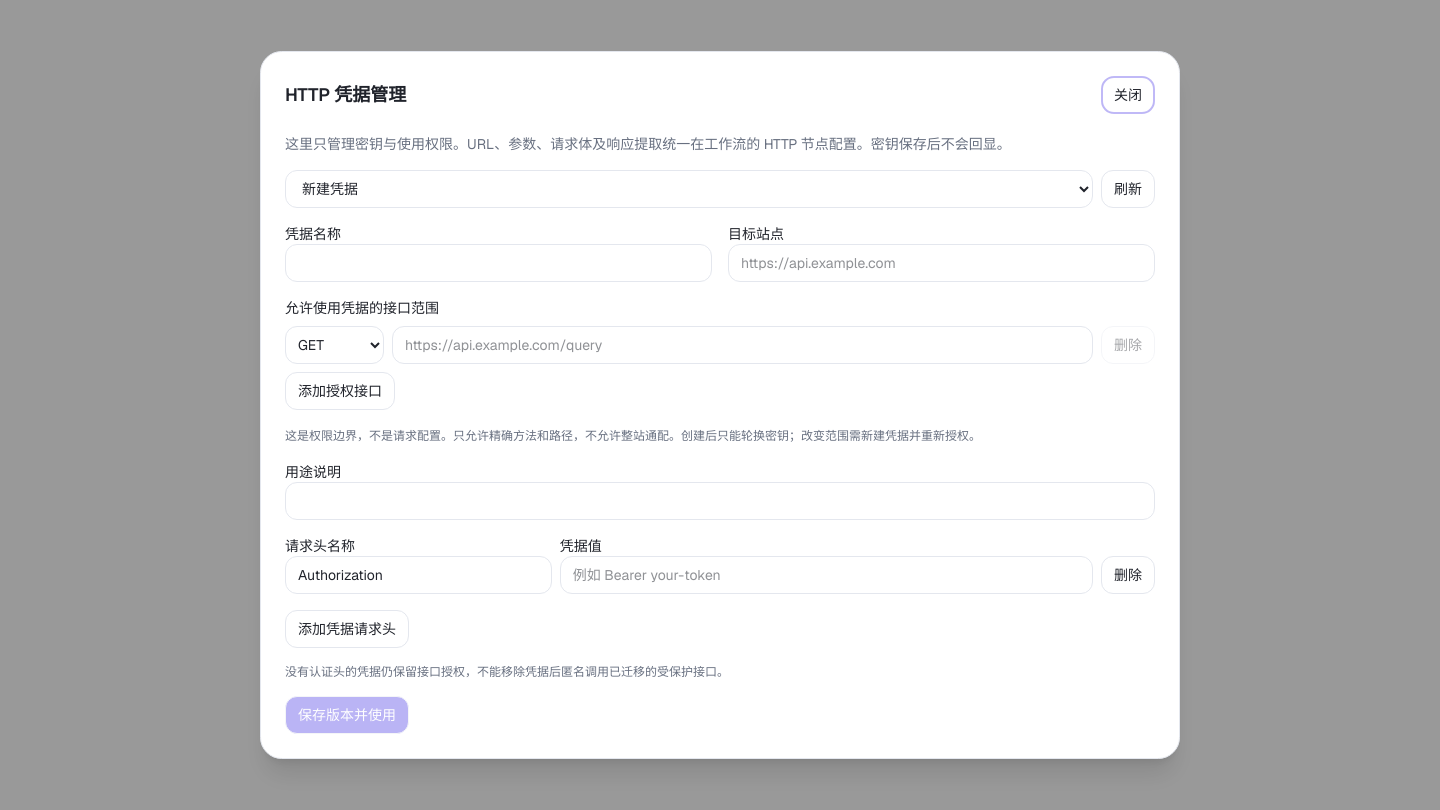
Test case: HTTP credential management › retains failed input for explicit retry and blocks double submission and Escape while saving
Step 1. Type "Retry" into the field labelled "凭据名称" → (498, 263), box x1=285 y1=244 x2=712 y2=282
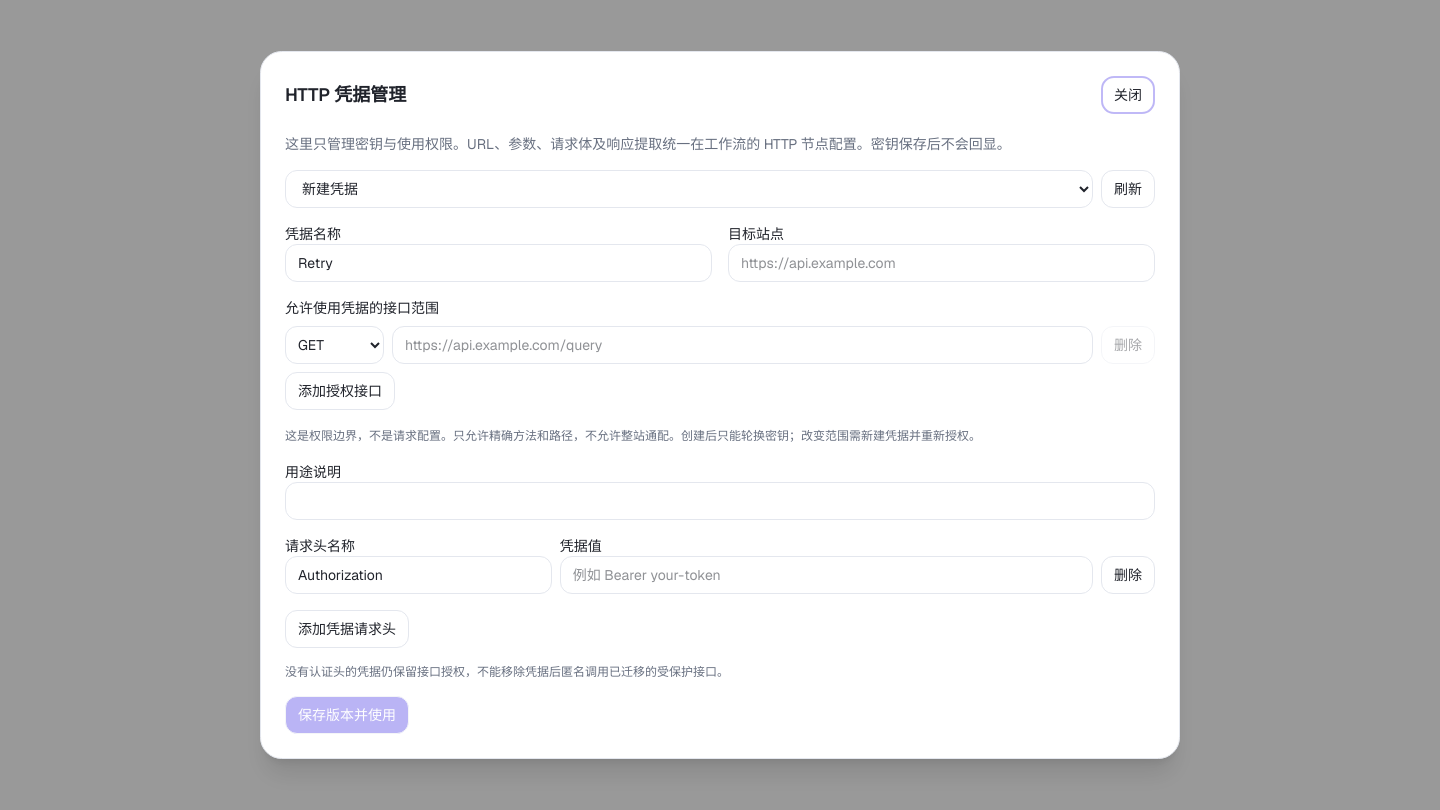
Step 2. Type "https://example.com" into the field named "凭据目标站点" → (942, 263), box x1=728 y1=244 x2=1155 y2=282
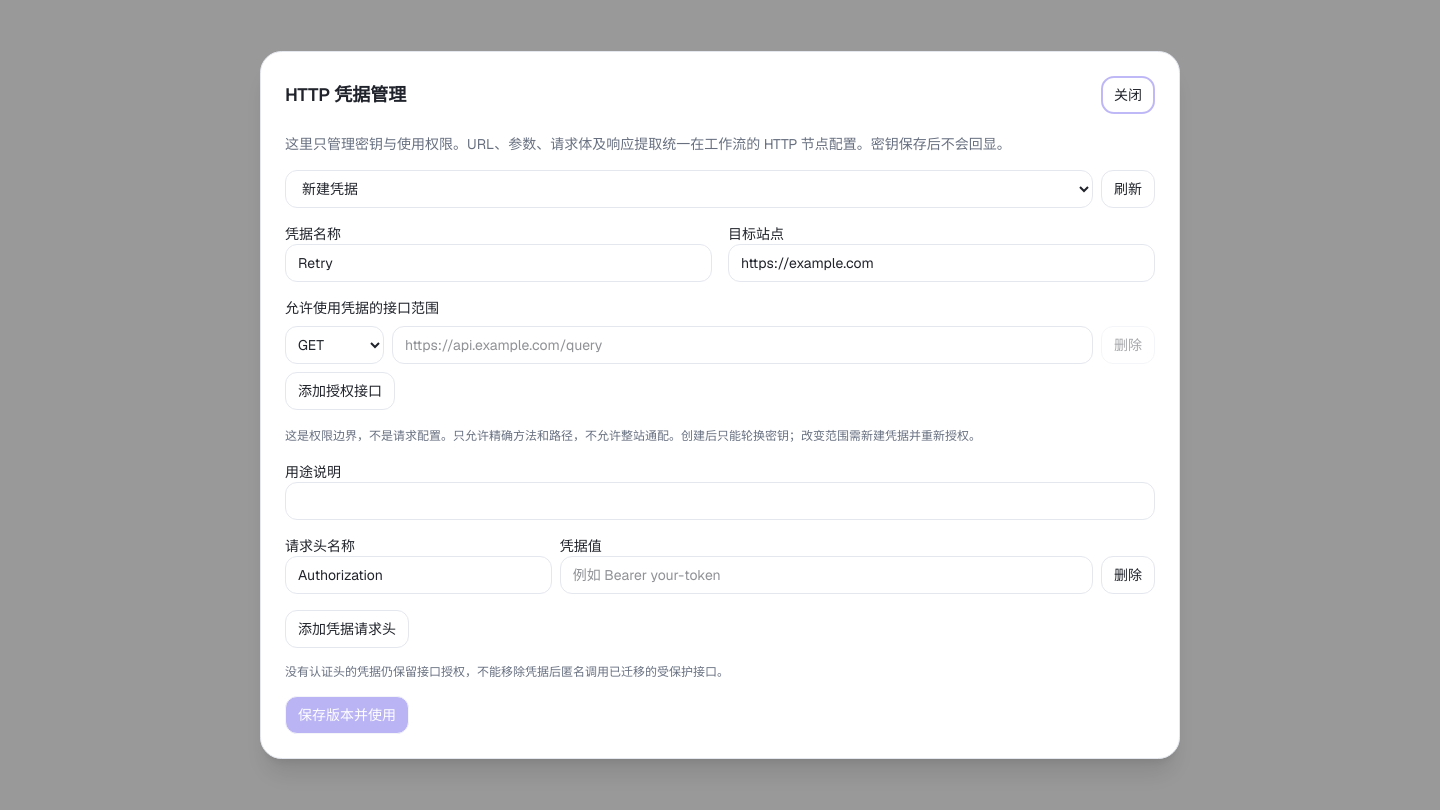
Step 3. Type "https://example.com/query" into the field named "授权接口 1 地址" → (742, 345), box x1=392 y1=326 x2=1093 y2=364
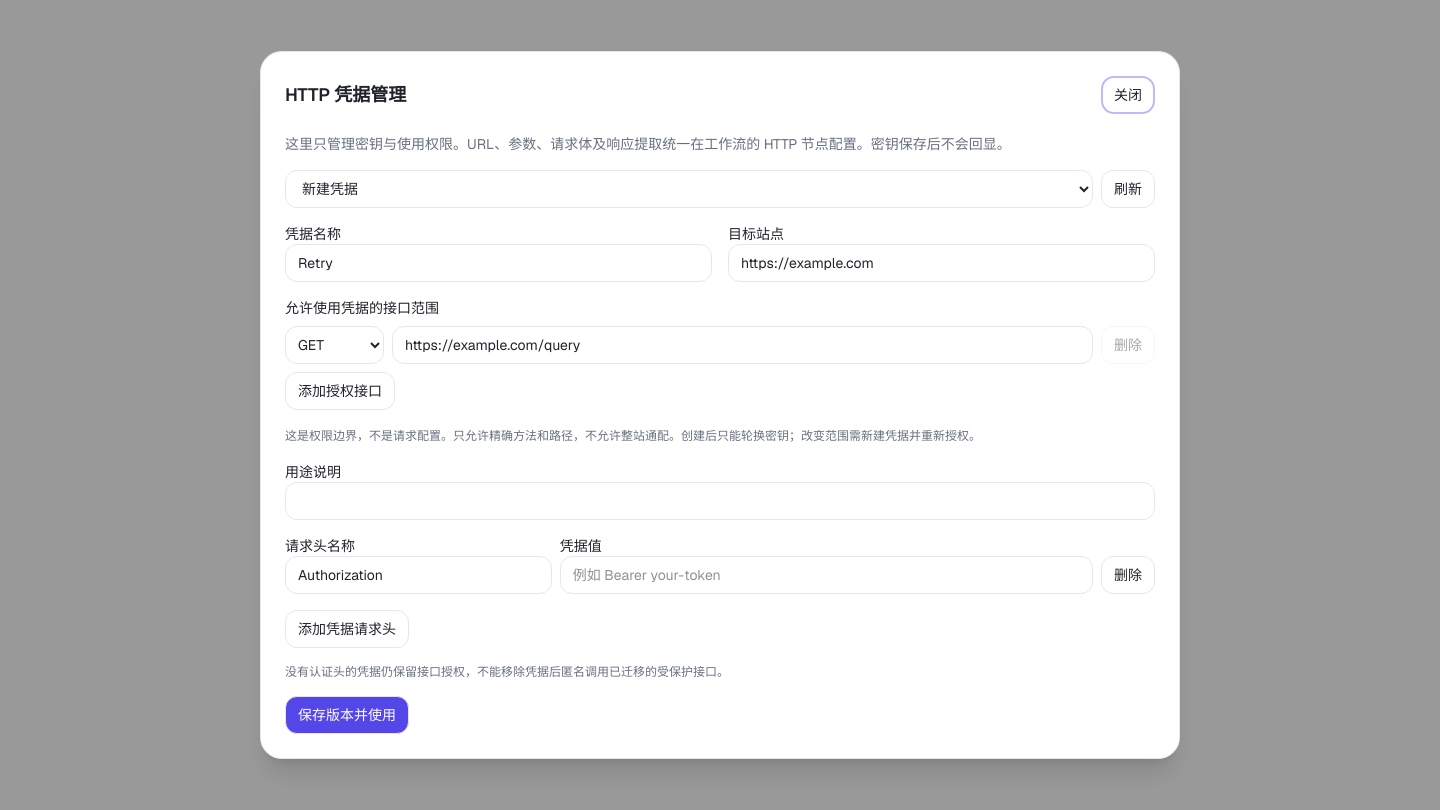
Step 4. Type "test-secret" into the password field named "凭据请求头 1 值" → (826, 575), box x1=560 y1=556 x2=1093 y2=594
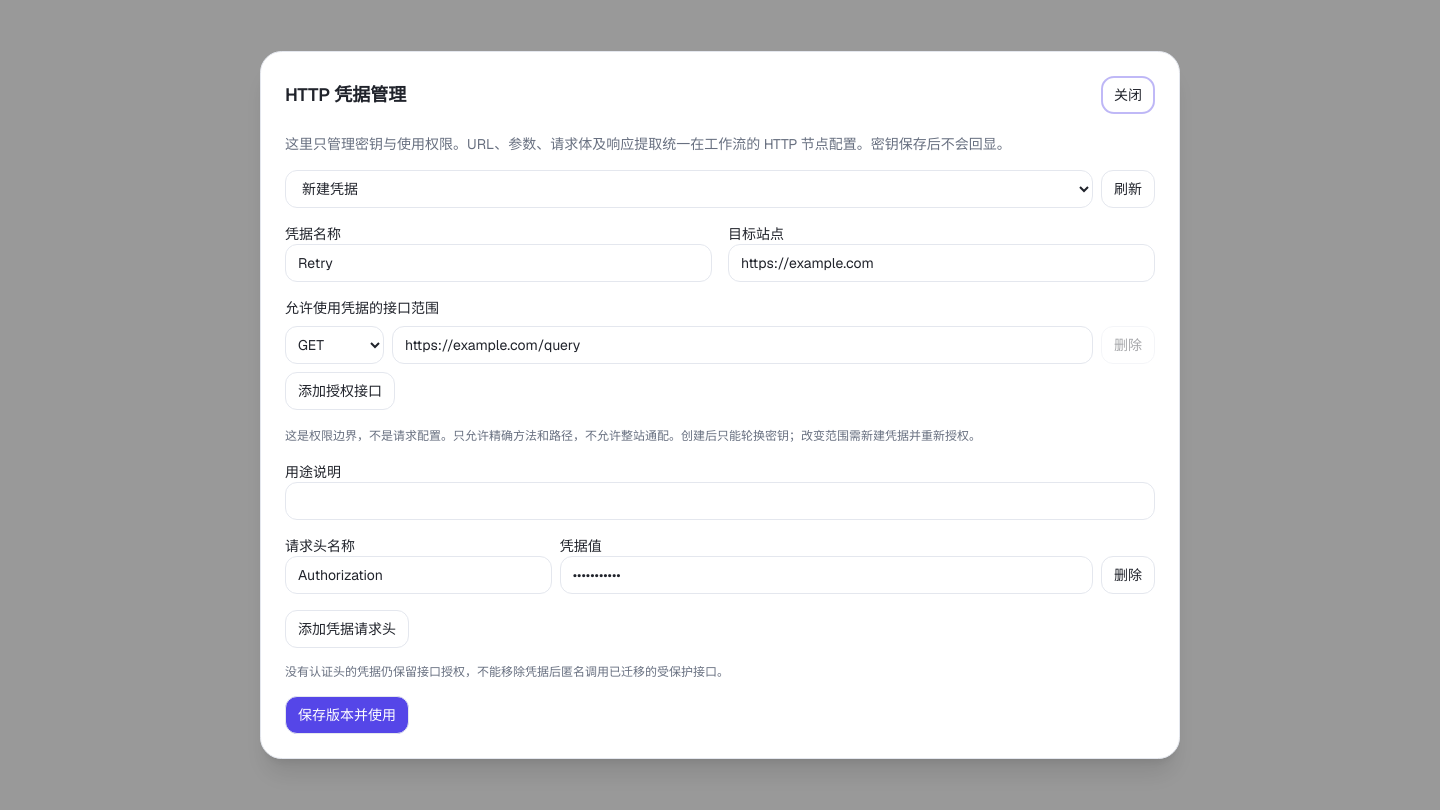
Step 5. Click the button "保存版本并使用" → (347, 715), box x1=285 y1=696 x2=409 y2=734
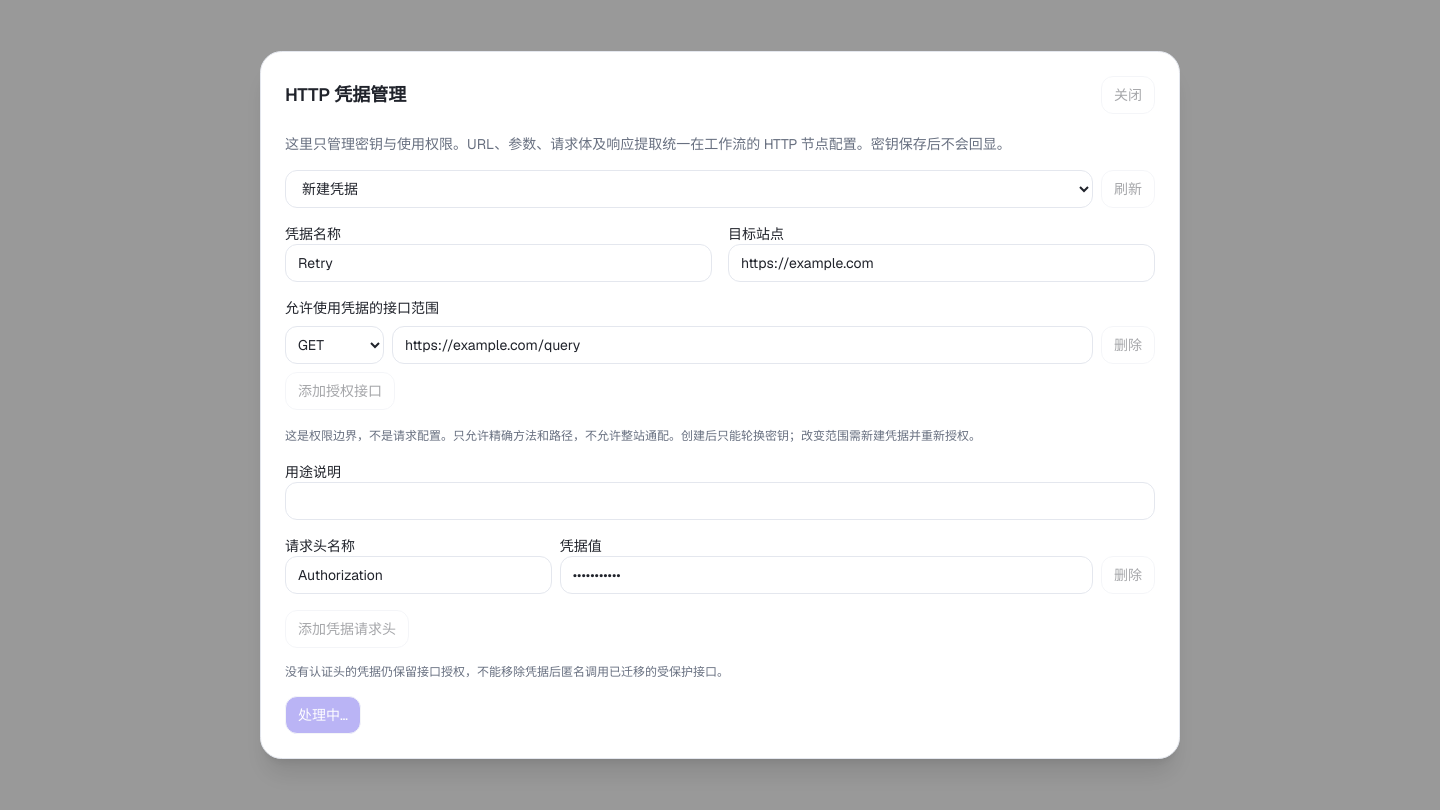
Now the button "处理中…" is disabled
Step 6. Click the button "处理中…" → (323, 715), box x1=285 y1=696 x2=361 y2=734
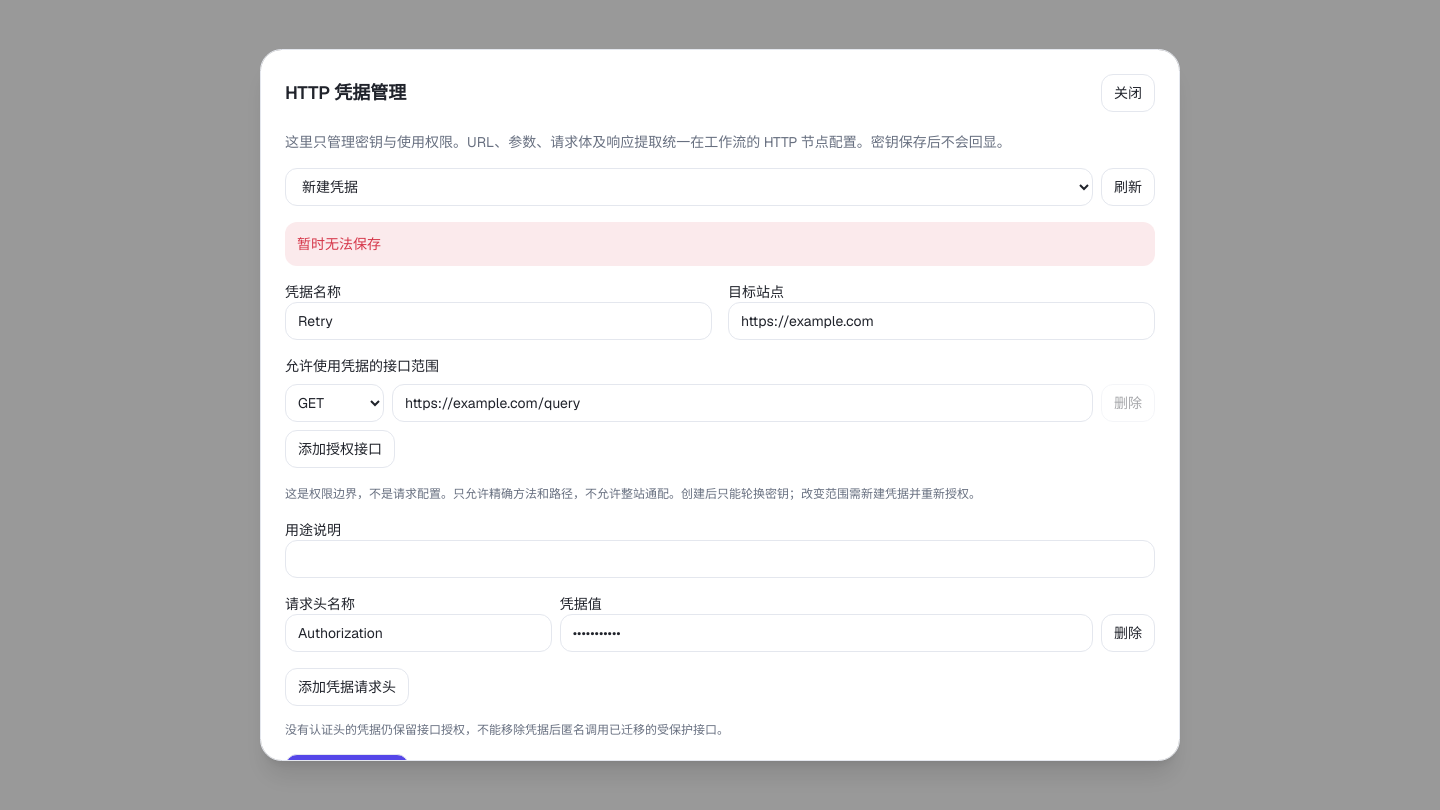
Now the message reads "暂时无法保存", box x1=297 y1=235 x2=381 y2=253
